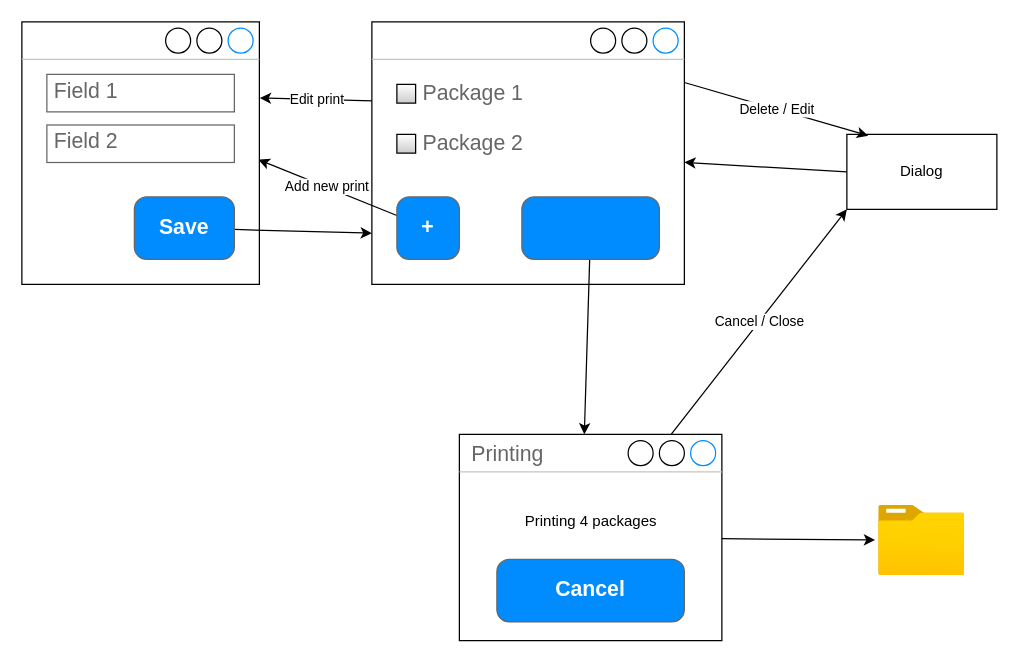
Image size: 1019x663. Some labels were removed from this diagram. Each missing label, with the box of its shape:
Edit: (21, 21, 259, 284)
FS: (878, 505, 964, 575)
List: (371, 21, 684, 284)
Print: (521, 196, 659, 259)
